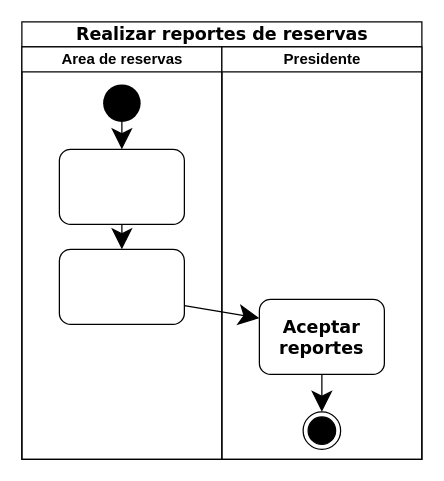
Some shapes in this 444 by 481 pixel diagram are drawn without their labels. Here are the shapes that lost their labels. From the top down, the centre of each, then its label:
At (121,186): "Generar reportes de reservas".
At (121,286): "Enviar reportes".
